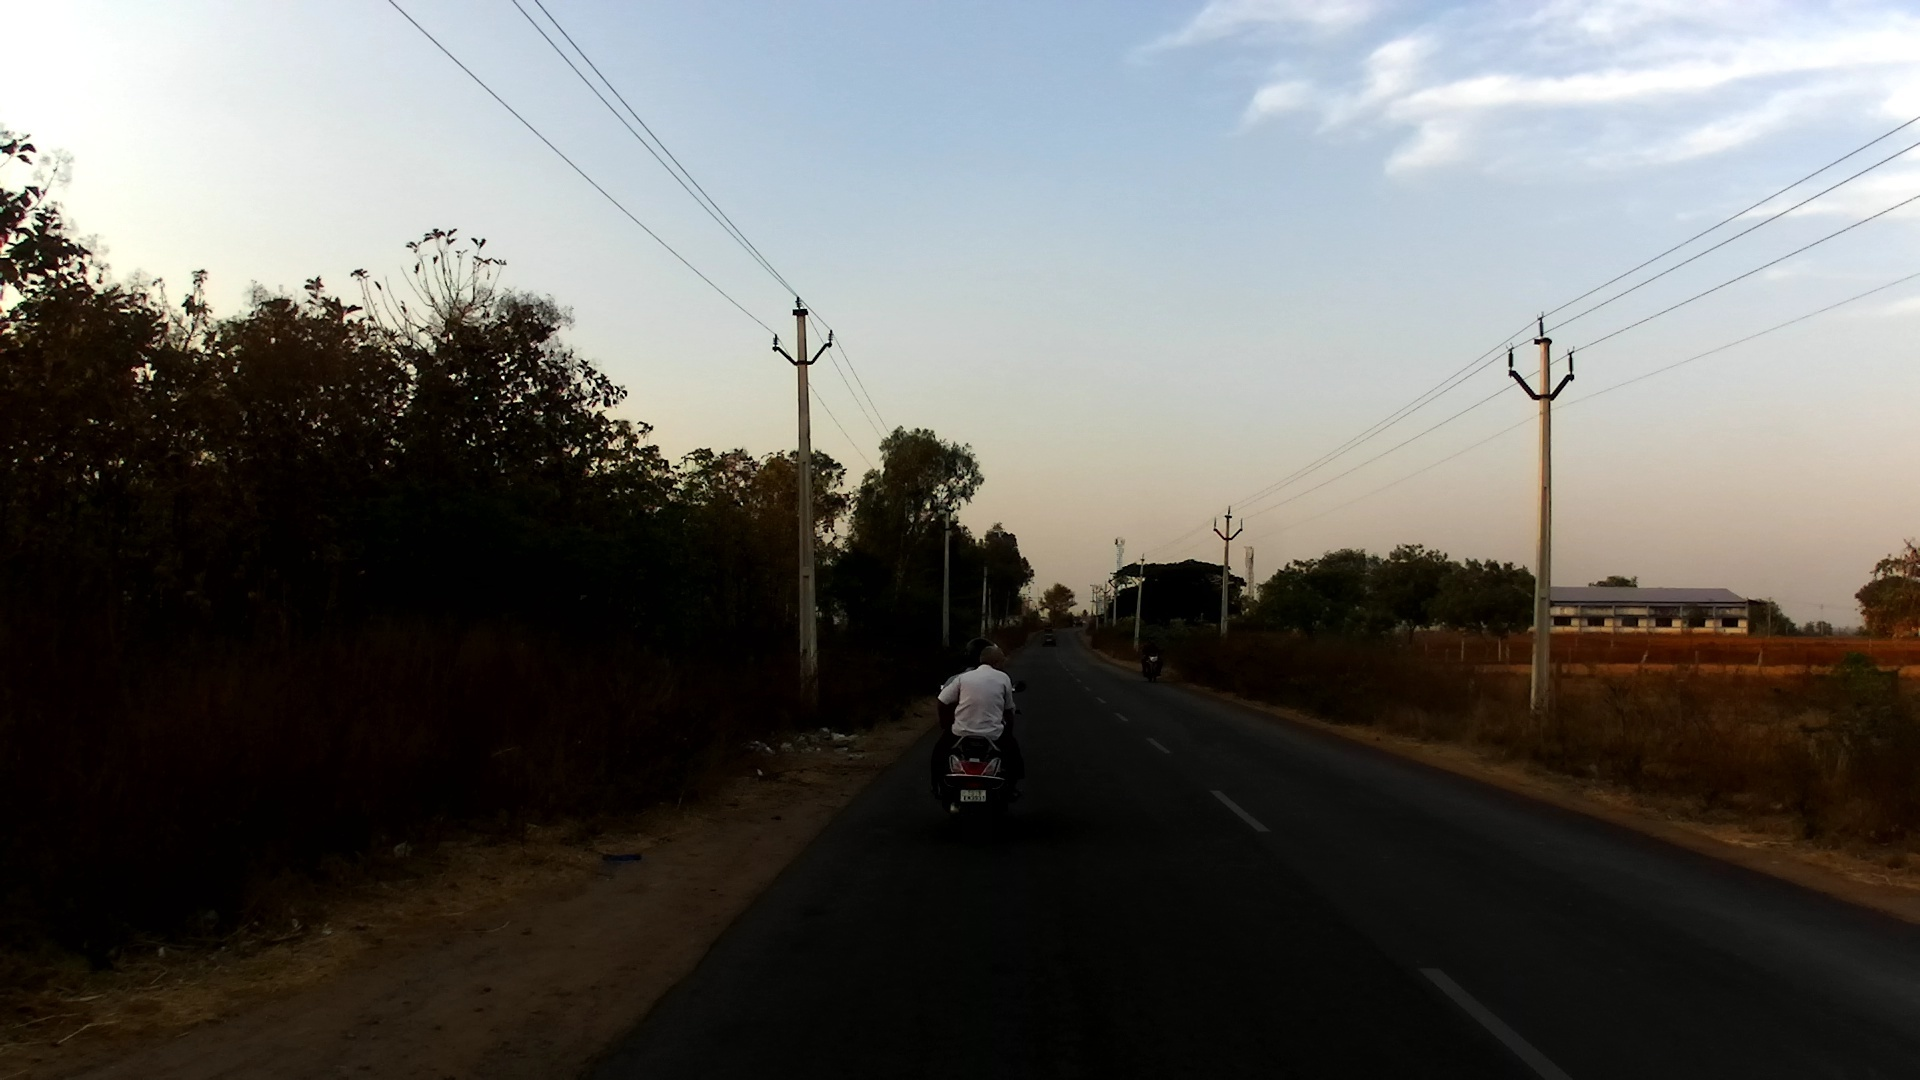car: (1040, 633, 1057, 647)
motorcycle: (936, 675, 1033, 840), (1139, 653, 1165, 683)
rider: (929, 644, 1033, 805), (944, 639, 1005, 741), (1139, 639, 1162, 682)
